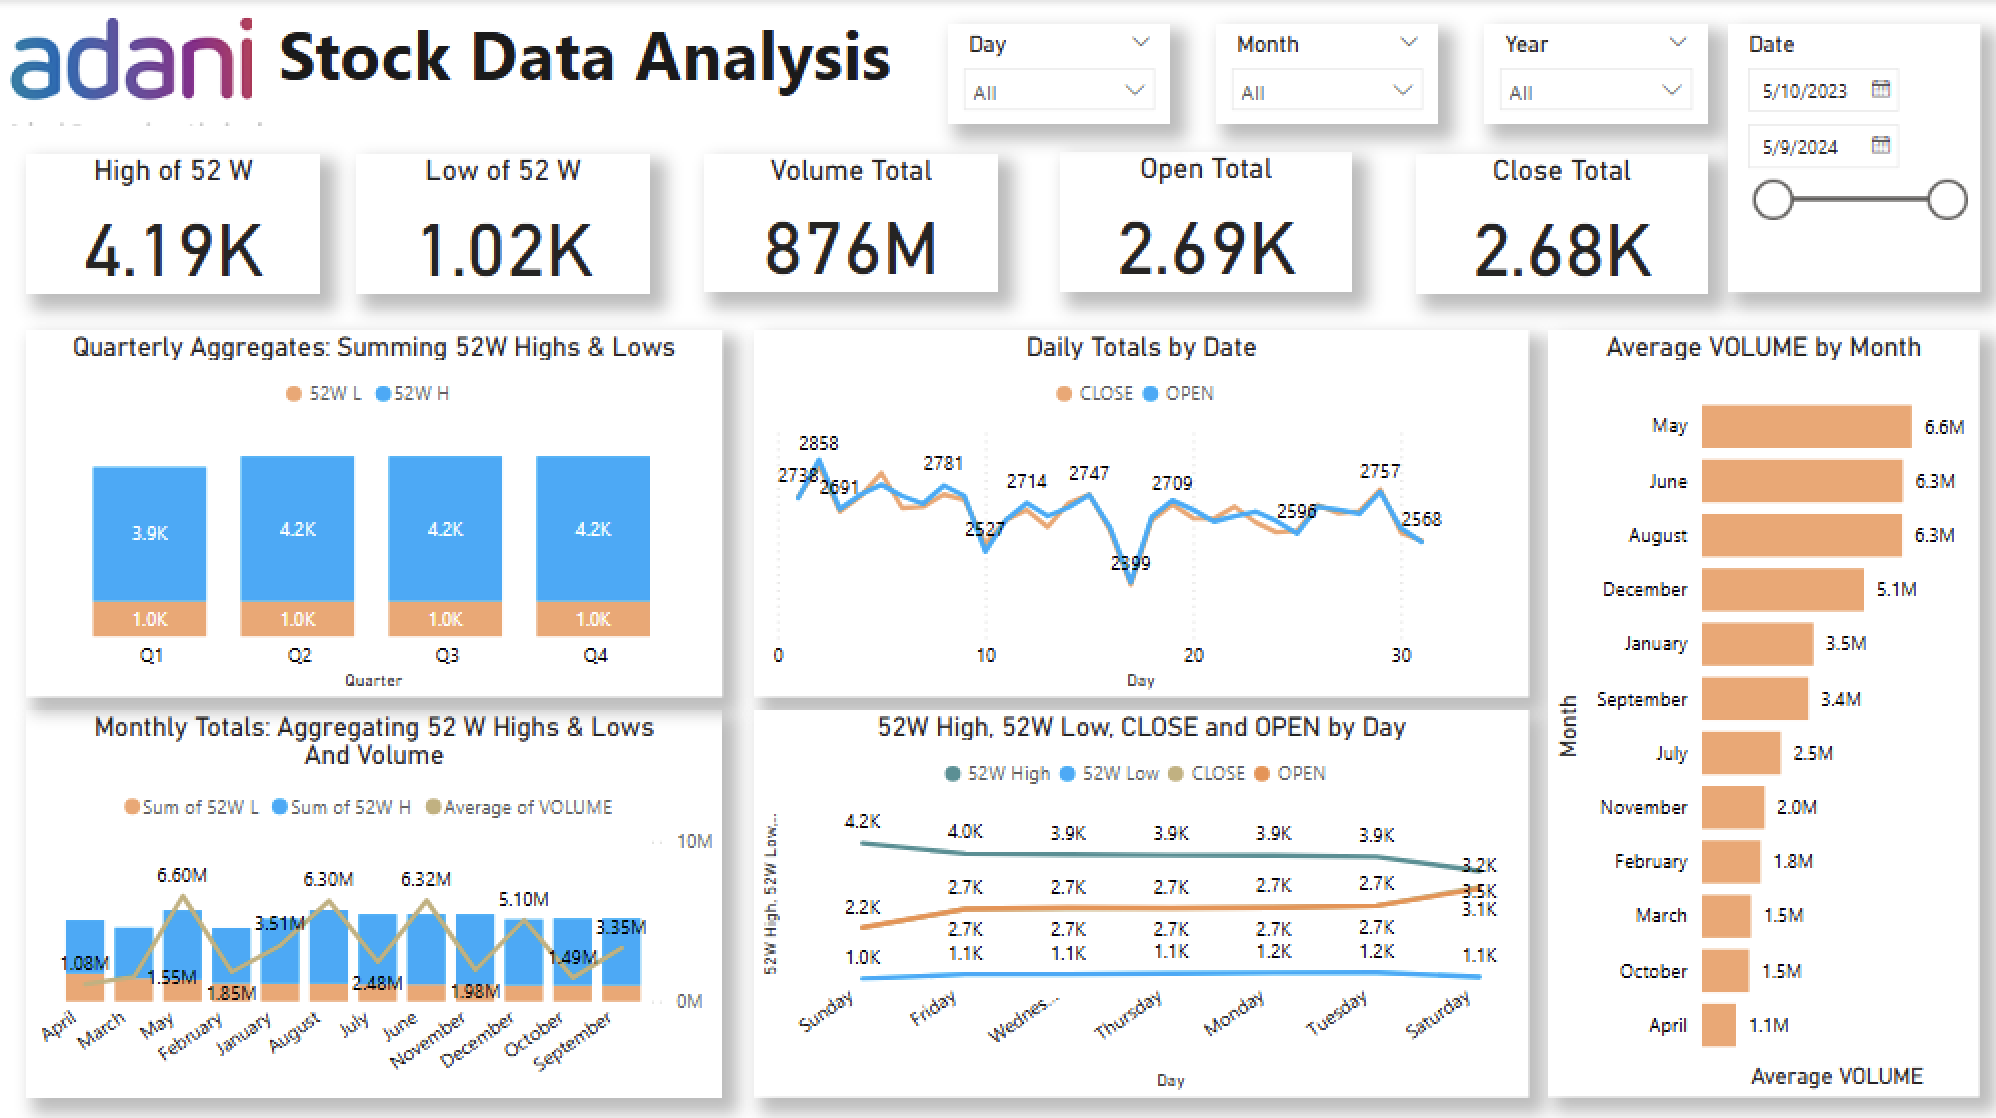

This screenshot's page, from the dashboard's own definition file:
{"tool":"powerbi","page":{"name":"Page 1","canvas":[1280,720],"ordinal":0},"visuals":[{"type":"slicer","fields":{"Values":["ADANI ENTERPRISES LIMITED.Day"]},"box":[608.5,14.8,142.2,63.7],"z":0},{"type":"slicer","fields":{"Values":["ADANI ENTERPRISES LIMITED.Month"]},"box":[779.1,14.8,142.2,63.7],"z":1000},{"type":"slicer","fields":{"Values":["ADANI ENTERPRISES LIMITED.Quarter"]},"box":[956.6,14.8,142.2,63.7],"z":2000},{"type":"slicer","fields":{"Values":["ADANI ENTERPRISES LIMITED.Year"]},"box":[1123.8,14.8,142.2,63.7],"z":3000},{"type":"card","title":"Avg of 52W H","fields":{"Values":["Avg(ADANI ENTERPRISES LIMITED.52W H )"]},"box":[37.9,97.8,187.1,89.3],"z":4000},{"type":"card","title":"Avg of 52W L","fields":{"Values":["Avg(ADANI ENTERPRISES LIMITED.52W L )"]},"box":[298.4,97.8,187.1,89.3],"z":5000},{"type":"card","title":"Close Total","fields":{"Values":["Sum(ADANI ENTERPRISES LIMITED.close )"]},"box":[1079.4,97.8,186.5,88.7],"z":6000},{"type":"card","title":"Open Total","fields":{"Values":["Sum(ADANI ENTERPRISES LIMITED.OPEN )"]},"box":[850.8,97.8,186.5,88.7],"z":7000},{"type":"card","title":"Volume Total","fields":{"Values":["Sum(ADANI ENTERPRISES LIMITED.VOLUME )"]},"box":[577.2,97.8,185.9,89.3],"z":8000},{"type":"columnChart","title":"Quarterly Aggregates: Summing 52W Highs & Lows","fields":{"Category":["ADANI ENTERPRISES LIMITED.Quarter"],"Y":["Sum(ADANI ENTERPRISES LIMITED.52W L )","Sum(ADANI ENTERPRISES LIMITED.52W H )"]},"box":[20.5,210.4,443.6,234.3],"z":9000},{"type":"lineStackedColumnComboChart","fields":{"Category":["ADANI ENTERPRISES LIMITED.Month"],"Y":["Sum(ADANI ENTERPRISES LIMITED.52W L )","Sum(ADANI ENTERPRISES LIMITED.52W H )"],"Y2":["Sum(ADANI ENTERPRISES LIMITED.VOLUME )"]},"box":[22.5,455.4,444.1,246.8],"z":10000},{"type":"lineChart","fields":{"Category":["ADANI ENTERPRISES LIMITED.Date .Variation.Date Hierarchy.Day"],"Y":["Sum(ADANI ENTERPRISES LIMITED.close )","Sum(ADANI ENTERPRISES LIMITED.OPEN )"]},"box":[485.8,209.6,493.7,235.6],"z":11000},{"type":"lineChart","fields":{"Category":["ADANI ENTERPRISES LIMITED.Day"],"Y":["Sum(ADANI ENTERPRISES LIMITED.52W H )","Sum(ADANI ENTERPRISES LIMITED.52W L )","Sum(ADANI ENTERPRISES LIMITED.close )","Sum(ADANI ENTERPRISES LIMITED.OPEN )"]},"box":[485.8,463.2,494.8,246.8],"z":12000},{"type":"clusteredBarChart","fields":{"Category":["ADANI ENTERPRISES LIMITED.Month"],"Y":["Sum(ADANI ENTERPRISES LIMITED.VOLUME )"]},"box":[990.7,210.4,275.3,489.1],"z":13000},{"type":"image","box":[0,0,147.9,92.1],"z":14000},{"type":"textbox","box":[164.9,14.8,424.3,63.7],"z":15000}]}

Visuals, with their boxes in screenshot pixels (x1, y1, x2, y2), scaled from the page's 1280x720 canvas onto the 1996x1118 screenshot:
slicer - ADANI ENTERPRISES LIMITED.Day: left=949, top=23, right=1171, bottom=122
slicer - ADANI ENTERPRISES LIMITED.Month: left=1215, top=23, right=1437, bottom=122
slicer - ADANI ENTERPRISES LIMITED.Quarter: left=1492, top=23, right=1713, bottom=122
slicer - ADANI ENTERPRISES LIMITED.Year: left=1752, top=23, right=1974, bottom=122
"Avg of 52W H" card: left=59, top=152, right=351, bottom=291
"Avg of 52W L" card: left=465, top=152, right=757, bottom=291
"Close Total" card: left=1683, top=152, right=1974, bottom=290
"Open Total" card: left=1327, top=152, right=1618, bottom=290
"Volume Total" card: left=900, top=152, right=1190, bottom=291
"Quarterly Aggregates: Summing 52W Highs & Lows" columnChart: left=32, top=327, right=724, bottom=691
lineStackedColumnComboChart - ADANI ENTERPRISES LIMITED.Month x Sum(ADANI ENTERPRISES LIMITED.52W L ): left=35, top=707, right=728, bottom=1090
lineChart - ADANI ENTERPRISES LIMITED.Date .Variation.Date Hierarchy.Day x Sum(ADANI ENTERPRISES LIMITED.close ): left=758, top=325, right=1527, bottom=691
lineChart - ADANI ENTERPRISES LIMITED.Day x Sum(ADANI ENTERPRISES LIMITED.52W H ): left=758, top=719, right=1529, bottom=1102
clusteredBarChart - ADANI ENTERPRISES LIMITED.Month x Sum(ADANI ENTERPRISES LIMITED.VOLUME ): left=1545, top=327, right=1974, bottom=1086
image: left=0, top=0, right=231, bottom=143
textbox: left=257, top=23, right=919, bottom=122
